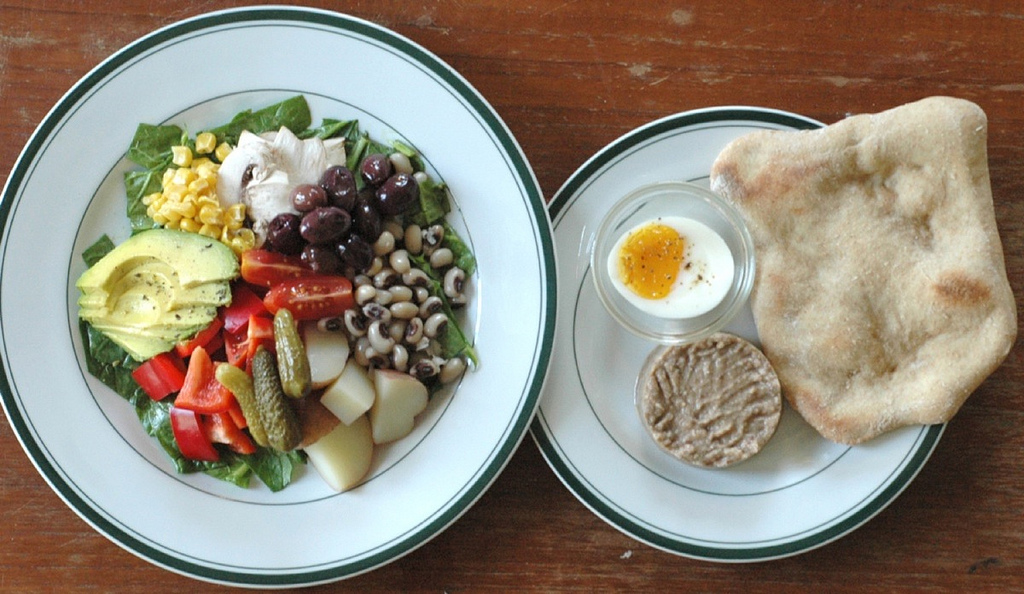fried egg: (602, 214, 727, 316)
slice of bread: (720, 105, 1004, 426)
